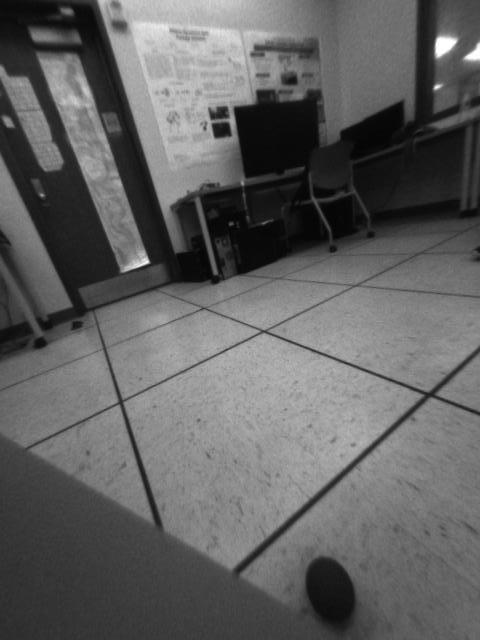dogtoy: (295, 543, 367, 633)
